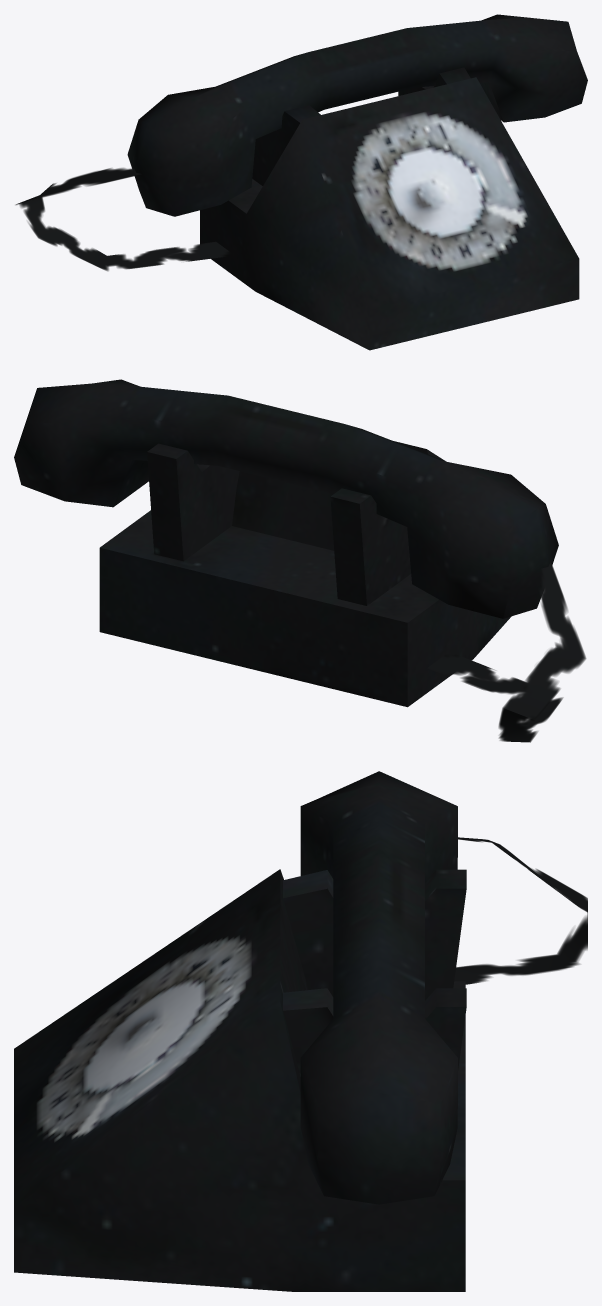
Rendered from Phone_01-col.glb.
The picture shows the model from 3 angles, top to bottom: view 1: azimuth 30°, elevation 25°; view 2: azimuth 150°, elevation 25°; view 3: azimuth 270°, elevation 25°; orthographic projection. The views are drawn at different scales.
Visible parts, largest first — view 1: Phone_01-col; view 2: Phone_01-col; view 3: Phone_01-col.
Boxes of the visible parts, <box> form: Phone_01-col: <box>15,14,587,350</box>; Phone_01-col: <box>14,379,586,742</box>; Phone_01-col: <box>14,771,587,1291</box>.
Size of the model in its own units: 1.1 by 0.41 by 0.6837.
Materials: 1 (1 with a texture image).
